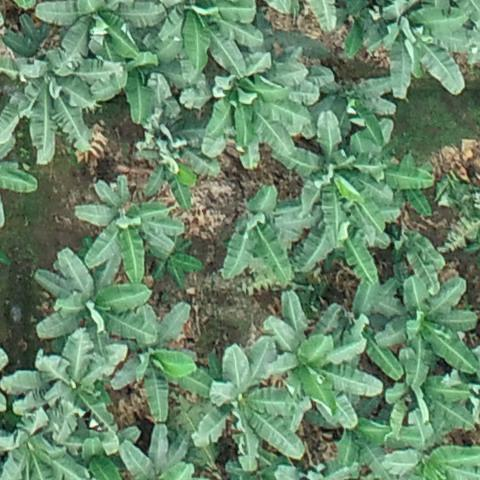Banana-plant: (179, 338, 308, 475), (260, 290, 384, 426), (34, 243, 157, 354), (74, 174, 190, 280), (375, 278, 479, 390), (107, 299, 204, 419), (364, 0, 478, 99), (0, 55, 102, 164), (204, 54, 323, 146), (295, 185, 398, 283), (278, 115, 376, 208), (225, 186, 316, 283), (38, 326, 132, 408), (38, 0, 169, 58)
